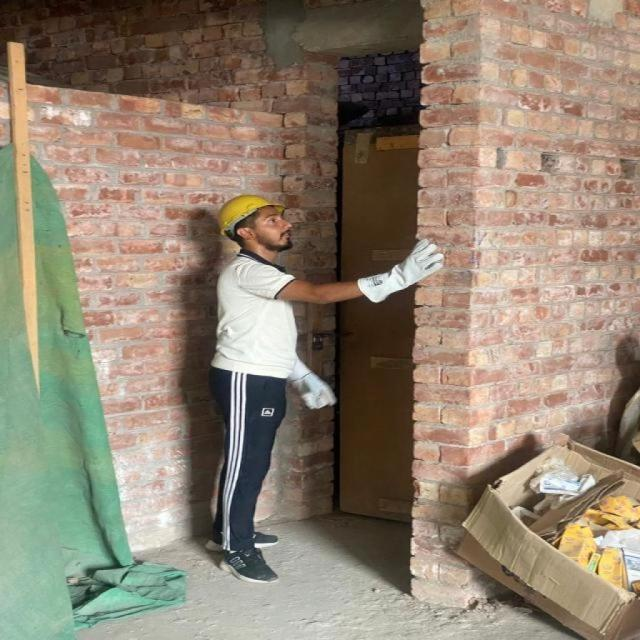Gloves-Detection: (356, 253, 439, 294), (295, 351, 334, 415)
